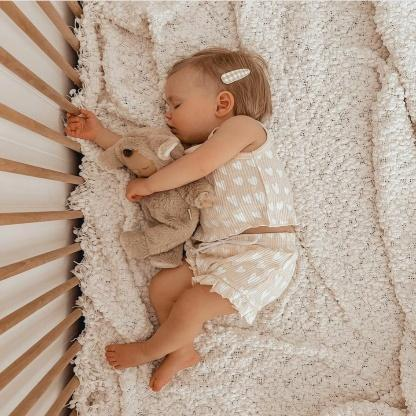baby: (63, 47, 299, 392)
